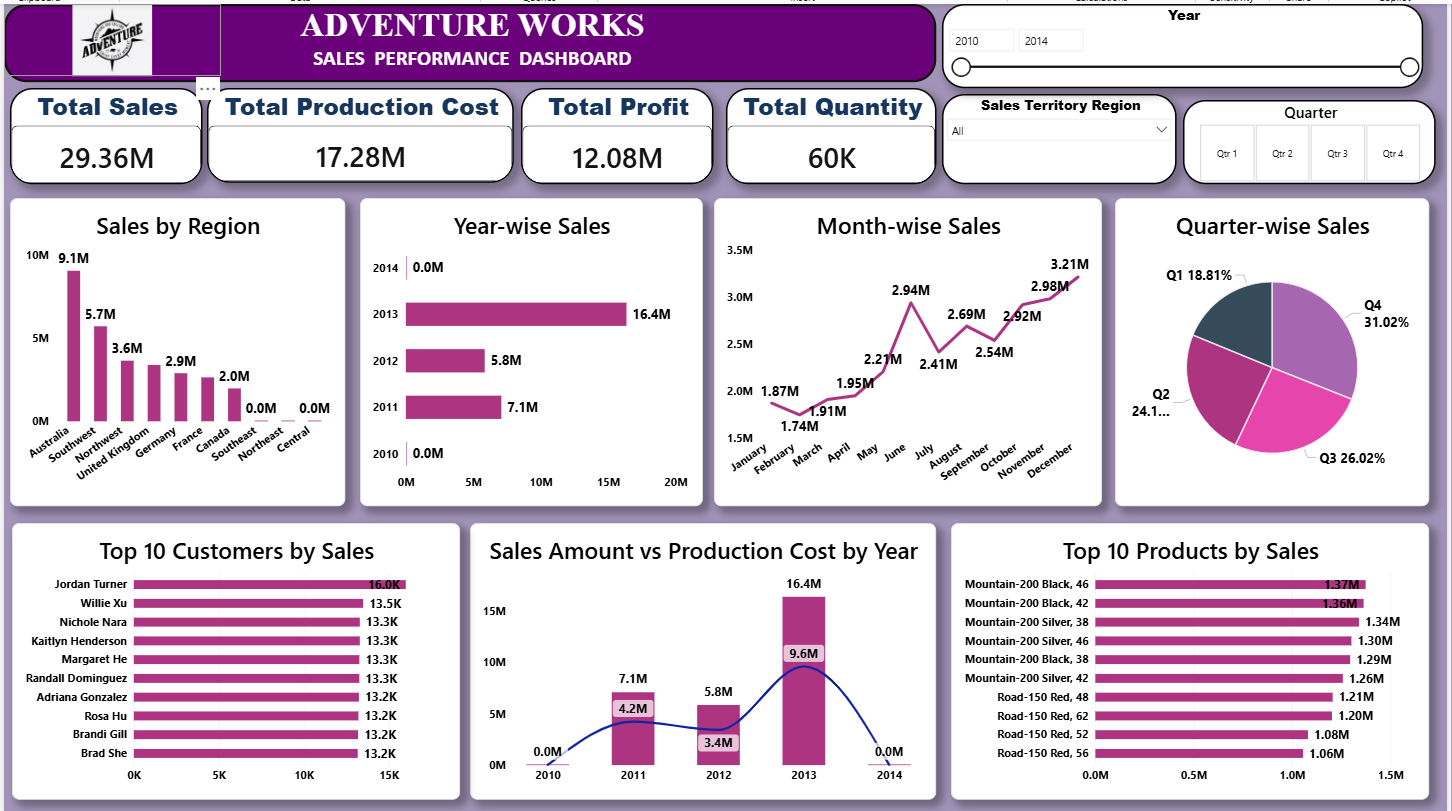

The dashboard page shown, as its layout file describes it:
{"tool":"powerbi","page":{"name":"Dashboard","canvas":[1920,1080],"ordinal":8},"visuals":[{"type":"clusteredBarChart","title":"Year-wise Sales","fields":{"Category":["SALES.Year"],"Y":["Sum(SALES.SalesAmount.1)"]},"box":[474,258,456,410],"z":0},{"type":"lineChart","title":"Month-wise Sales","fields":{"Category":["SALES.Monthfullname"],"Y":["Sum(SALES.SalesAmount.1)"]},"box":[944,258,516,410],"z":1000},{"type":"pieChart","title":"Quarter-wise Sales","fields":{"Category":["SALES.Quarter_New"],"Y":["Sum(SALES.SalesAmount.1)"]},"box":[1478,258,418,410],"z":2000},{"type":"lineClusteredColumnComboChart","title":"Sales Amount vs Production Cost by Year","fields":{"Category":["SALES.Year"],"Y":["Sum(SALES.SalesAmount.1)"],"Y2":["Sum(SALES.TotalProductCost)"]},"box":[620,690,620,368],"z":3000},{"type":"clusteredBarChart","title":"Top 10 Products by Sales","fields":{"Category":["SALES.EnglishProductName"],"Y":["Sum(SALES.SalesAmount.1)"]},"box":[1260,690,636,368],"z":4000},{"type":"clusteredColumnChart","title":"Sales by Region","fields":{"Category":["DimSalesTerritory.SalesTerritoryRegion"],"Y":["Sum(SALES.SalesAmount.1)"]},"box":[8,258,446,410],"z":5000},{"type":"cardVisual","title":"Total Sales","fields":{"Data":["Sum(SALES.SalesAmount.1)"]},"box":[8,112,256,128],"z":6000},{"type":"cardVisual","title":"Total Production Cost","fields":{"Data":["Sum(SALES.TotalProductCost)"]},"box":[270,112,408,126],"z":7000},{"type":"cardVisual","title":"Total Profit","fields":{"Data":["Sum(SALES.Profit)"]},"box":[688,112,256,128],"z":8000},{"type":"cardVisual","title":"Total Quantity","fields":{"Data":["Sum(SALES.OrderQuantity)"]},"box":[960,112,280,128],"z":9000},{"type":"textbox","title":"  ADVENTURE WORKS","box":[0,0,1240,104],"z":10000},{"type":"image","box":[0,0,288,96],"z":11000},{"type":"slicer","title":"Sales Territory Region","fields":{"Values":["SALES.SalesTerritoryKey"]},"box":[1248,120,312,120],"z":12000},{"type":"clusteredBarChart","title":"Top 10 Customers by Sales","fields":{"Category":["SALES.CustomerFullName"],"Y":["Sum(SALES.SalesAmount.1)"]},"box":[10,690,596,368],"z":13000},{"type":"slicer","title":"Year","fields":{"Values":["SALES.OrderDate.Variation.Date Hierarchy.Year"]},"box":[1248,0,640,112],"z":14000},{"type":"slicer","title":"Quarter","fields":{"Values":["SALES.OrderDate.Variation.Date Hierarchy.Quarter"]},"box":[1568,128,336,112],"z":15000}]}

Visuals, with their boxes on the page's 1920x1080 design canvas (x1, y1, x2, y2). These are canvas units, not pixel positions in the 1452x811 screenshot, which may show the page scaled, cropped or inside an application window:
"Year-wise Sales" clusteredBarChart: [x1=474, y1=258, x2=930, y2=668]
"Month-wise Sales" lineChart: [x1=944, y1=258, x2=1460, y2=668]
"Quarter-wise Sales" pieChart: [x1=1478, y1=258, x2=1896, y2=668]
"Sales Amount vs Production Cost by Year" lineClusteredColumnComboChart: [x1=620, y1=690, x2=1240, y2=1058]
"Top 10 Products by Sales" clusteredBarChart: [x1=1260, y1=690, x2=1896, y2=1058]
"Sales by Region" clusteredColumnChart: [x1=8, y1=258, x2=454, y2=668]
"Total Sales" cardVisual: [x1=8, y1=112, x2=264, y2=240]
"Total Production Cost" cardVisual: [x1=270, y1=112, x2=678, y2=238]
"Total Profit" cardVisual: [x1=688, y1=112, x2=944, y2=240]
"Total Quantity" cardVisual: [x1=960, y1=112, x2=1240, y2=240]
"  ADVENTURE WORKS" textbox: [x1=0, y1=0, x2=1240, y2=104]
image: [x1=0, y1=0, x2=288, y2=96]
"Sales Territory Region" slicer: [x1=1248, y1=120, x2=1560, y2=240]
"Top 10 Customers by Sales" clusteredBarChart: [x1=10, y1=690, x2=606, y2=1058]
"Year" slicer: [x1=1248, y1=0, x2=1888, y2=112]
"Quarter" slicer: [x1=1568, y1=128, x2=1904, y2=240]
